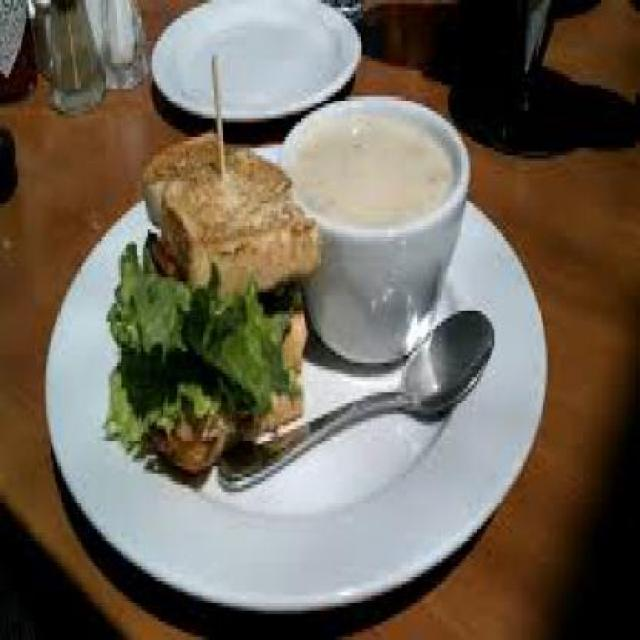clam chowder: (286, 96, 472, 356)
club sandwich: (103, 92, 320, 474)
